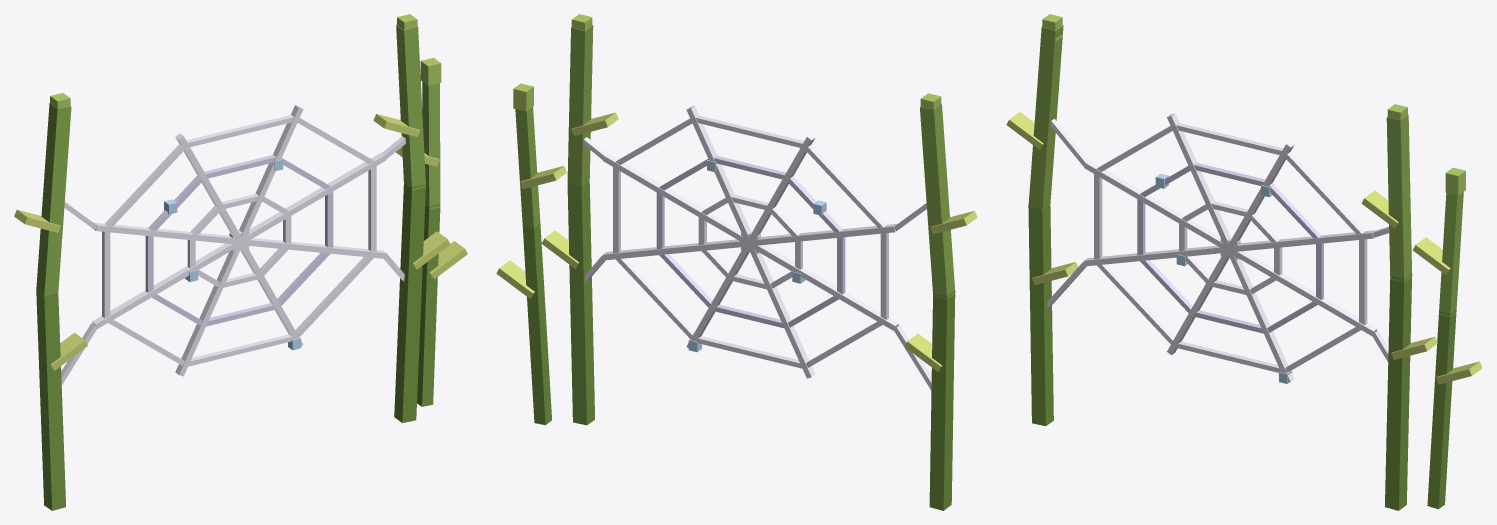
File: spider-web-google_cM0NzColM_0-blocky.glb
3 views of the same model, side by side, from view 1: azimuth 30°, elevation 25°; view 2: azimuth 150°, elevation 25°; view 3: azimuth 330°, elevation 25° (orthographic).
Parts seen in each view (by area): view 1: Spider_web; view 2: Spider_web; view 3: Spider_web.
Boxes of the visible parts, x1=… form: Spider_web: x1=14, y1=14, x2=467, y2=510; Spider_web: x1=496, y1=14, x2=977, y2=510; Spider_web: x1=1006, y1=14, x2=1482, y2=510.
Size of the model in its own units: 2.44 by 2.08 by 0.259.
Materials: 1 (1 with a texture image).
